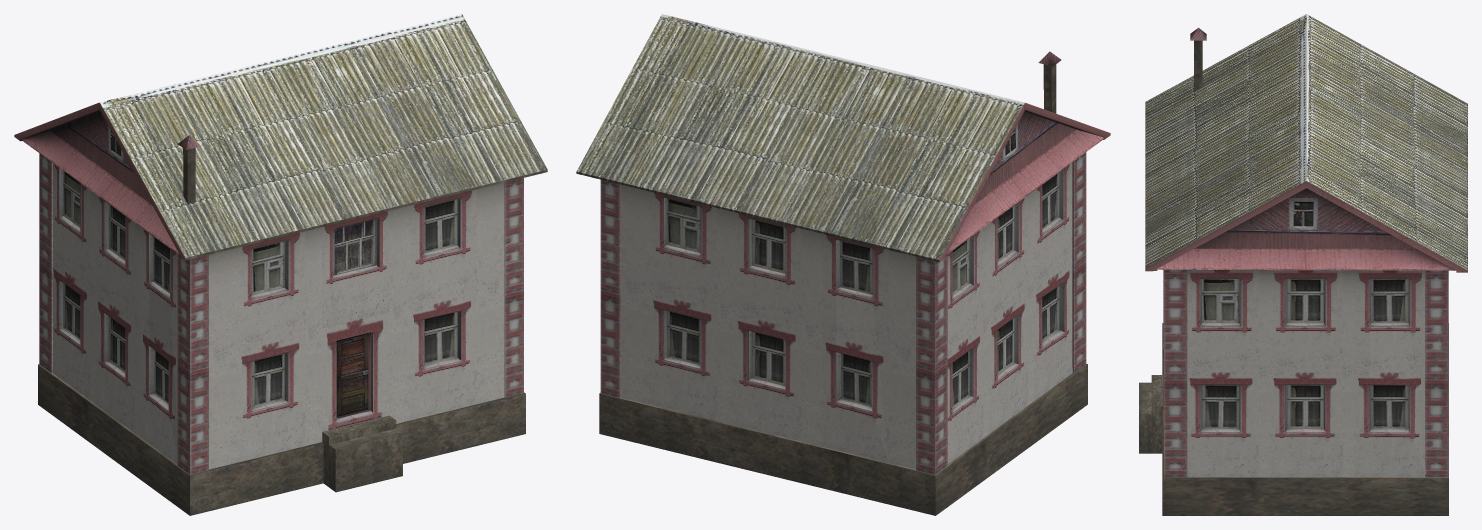
File: DachaFAB.fbx
3 views of the same model, side by side, from view 1: azimuth 30°, elevation 25°; view 2: azimuth 150°, elevation 25°; view 3: azimuth 270°, elevation 25° (orthographic). The views are drawn at different scales.
Visible parts, largest first — view 1: Circle3.002; view 2: Circle3.002; view 3: Circle3.002.
Boxes of the visible parts, bbox=[...] form: Circle3.002: bbox=[14, 14, 547, 515]; Circle3.002: bbox=[576, 14, 1110, 515]; Circle3.002: bbox=[1139, 14, 1467, 515].
Bounding box in the file's own units: 824 × 787 × 686.
